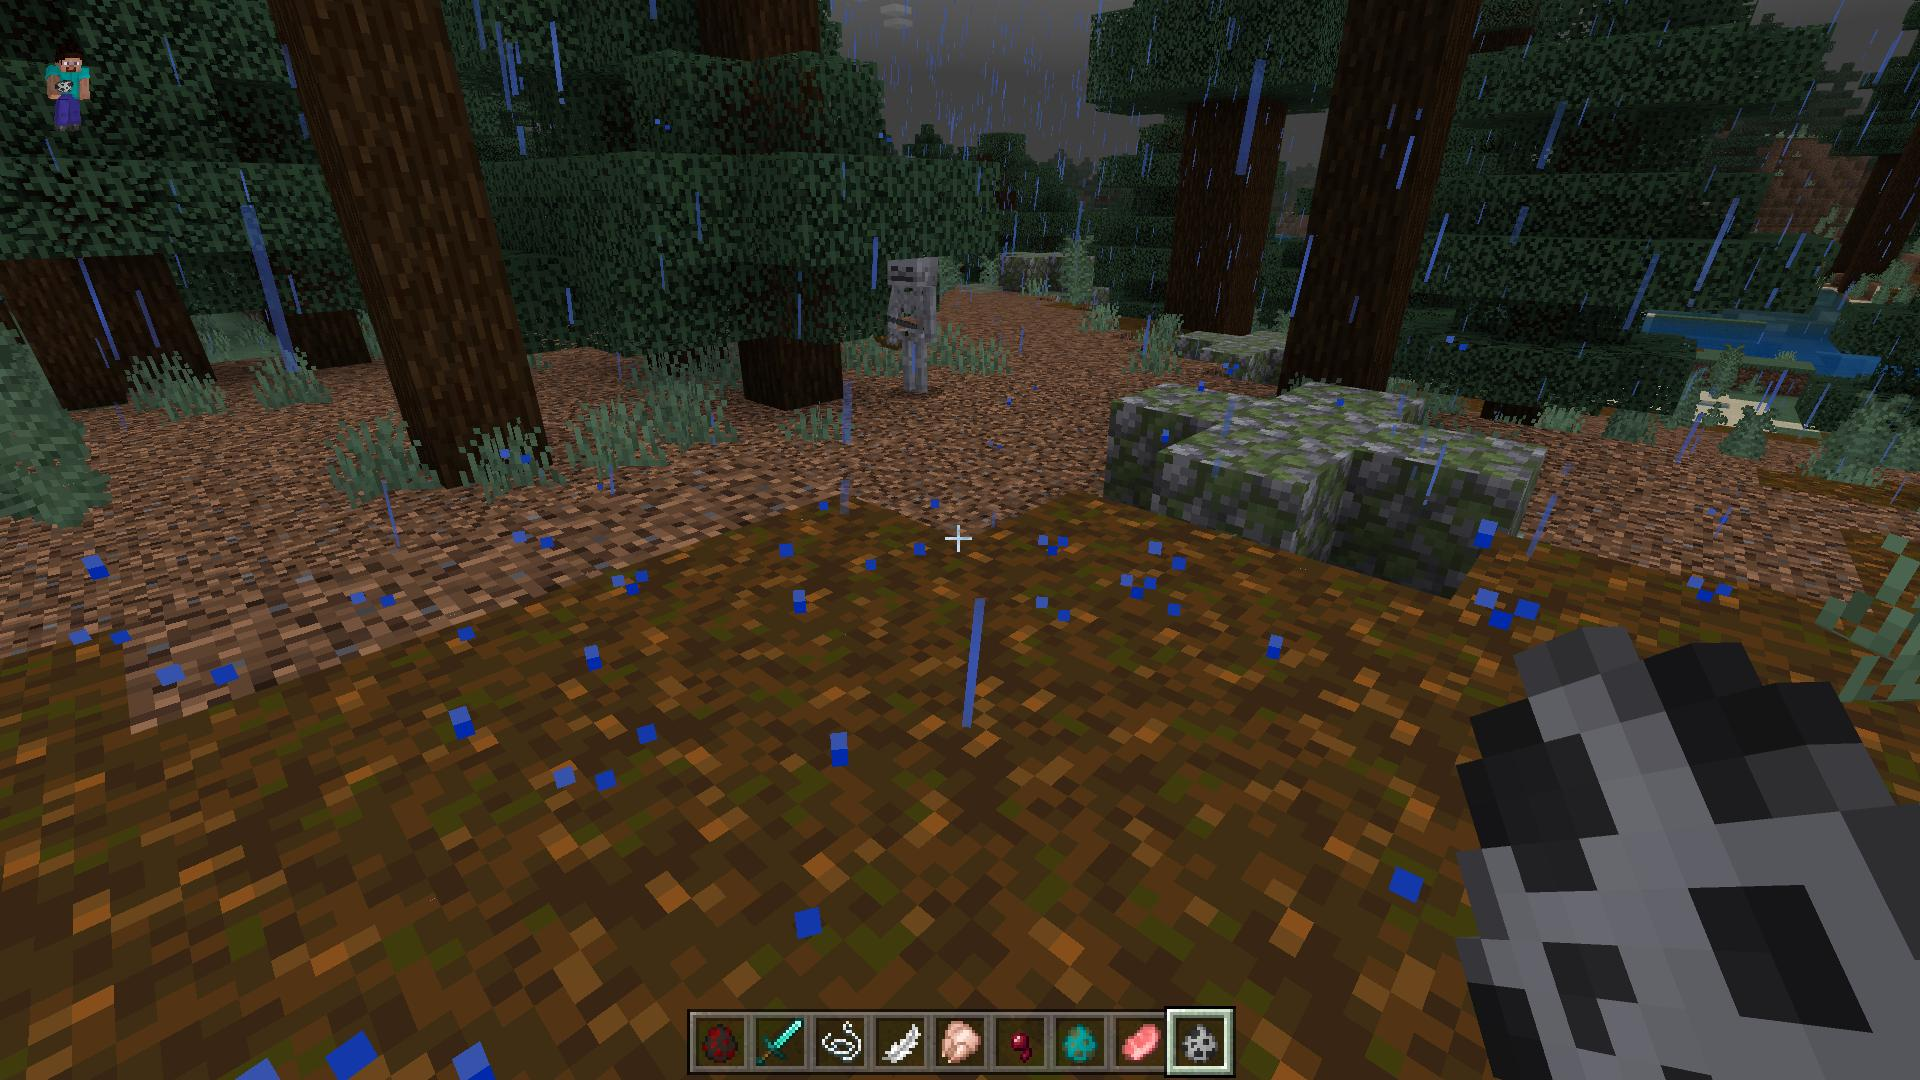skeleton: (873, 245, 947, 396)
